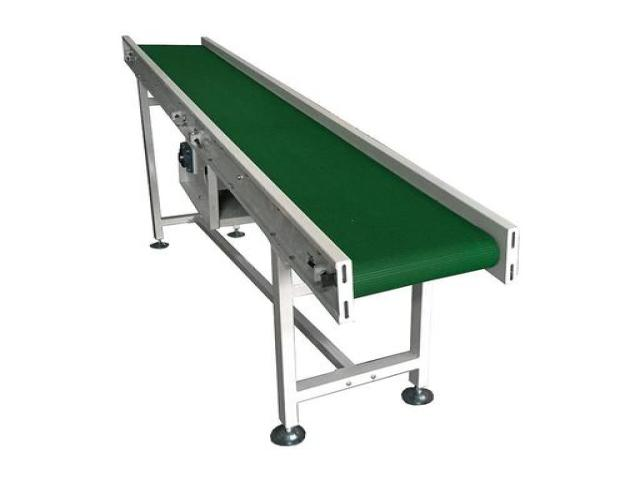conveyor: (85, 27, 550, 357)
